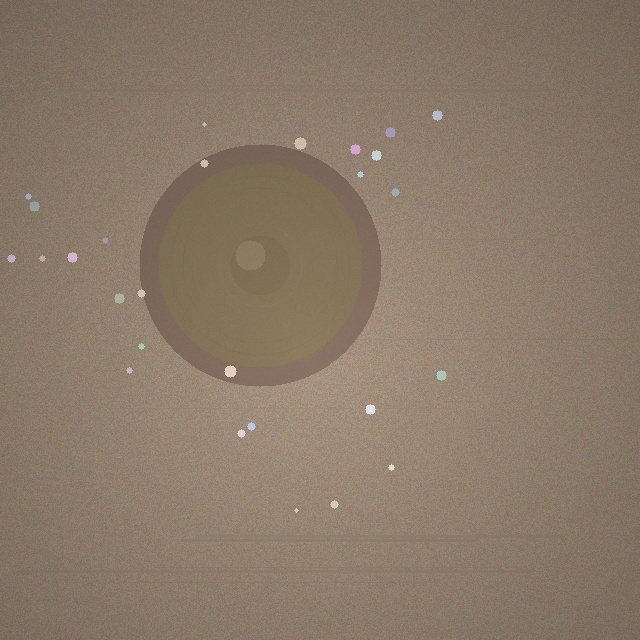overburn: (139, 144, 381, 386)
